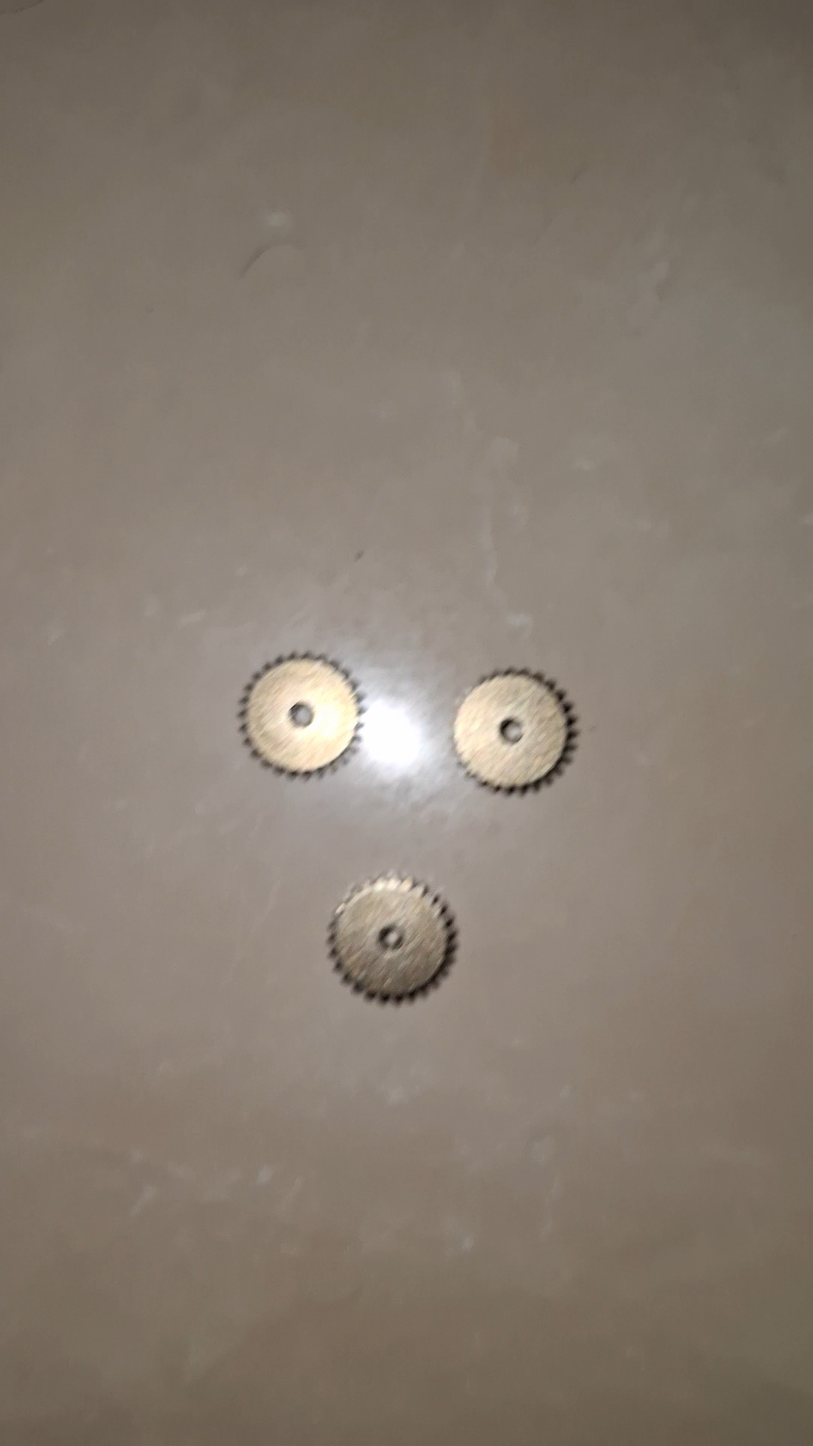spur gear: (329, 876, 455, 1001), (454, 670, 576, 792), (239, 655, 361, 776)
